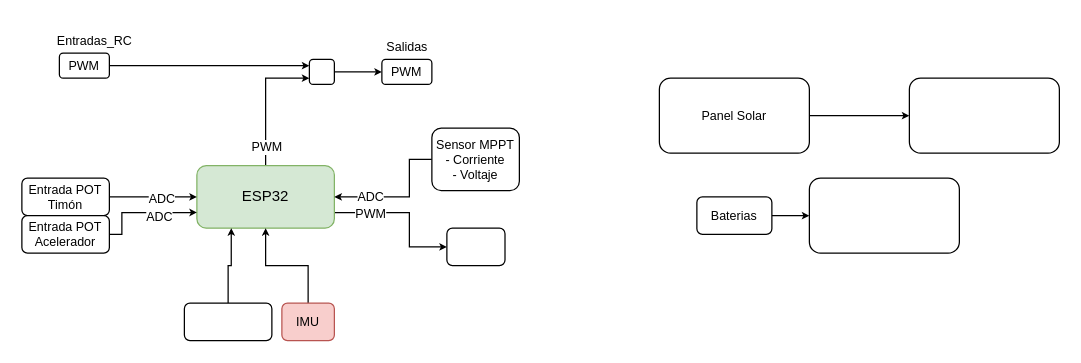
This 1081x363 diagram has some shape labels left out. Here are the shapes that lost their labels. From the top down, the centre of each, then its label:
At (983,115): "Motor".
At (883,215): "Electronica".
At (475,246): "ESC".
At (227,321): "Sensor Luz LDR".
